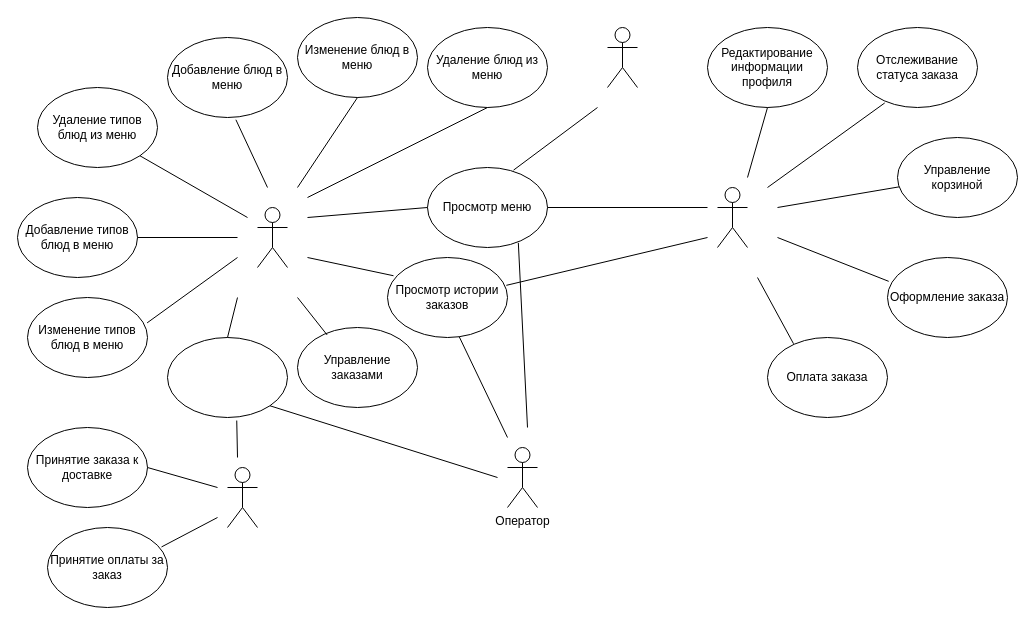
This 1035x625 diagram has some shape labels left out. The shapes that lost their labels are listed below. From the top down, each one's box as (x1, y1, x2, y2) in pixels, then its label:
(606, 26, 638, 88): Гость
(256, 206, 288, 268): Администратор
(716, 186, 748, 248): Клиент
(166, 336, 288, 418): Изменение статуса заказа
(226, 466, 258, 528): Курьер
